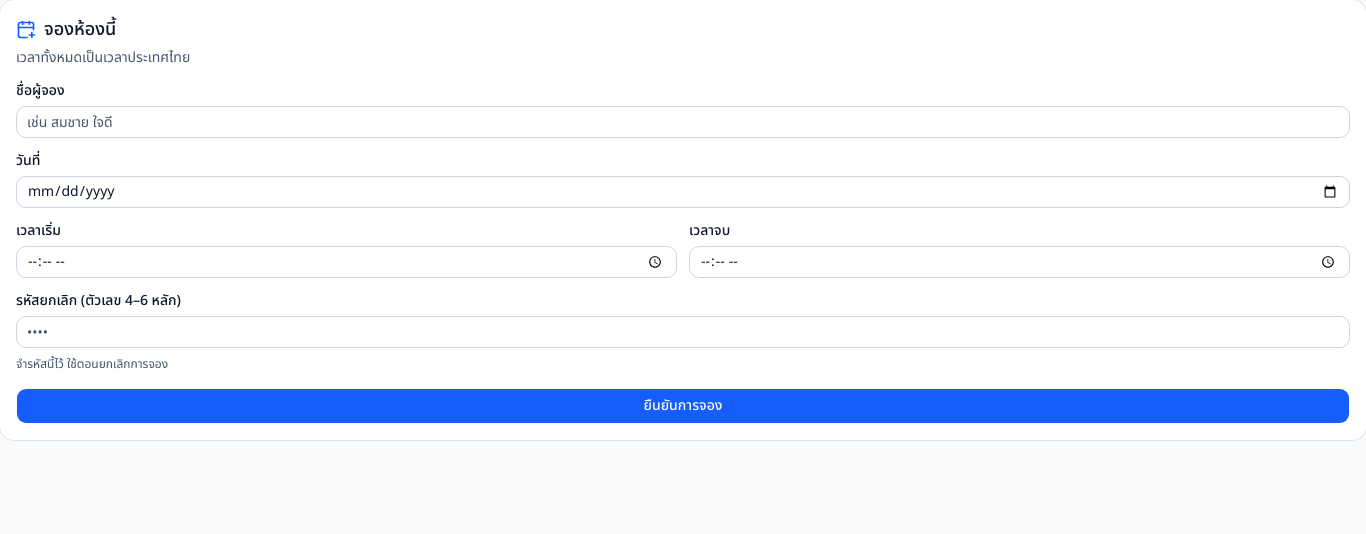
Test: BookingForm › explains when the server cannot be reached
Type "สมชาย" into the field labelled "ชื่อผู้จอง" at (683, 122), box [16, 106, 1350, 138]
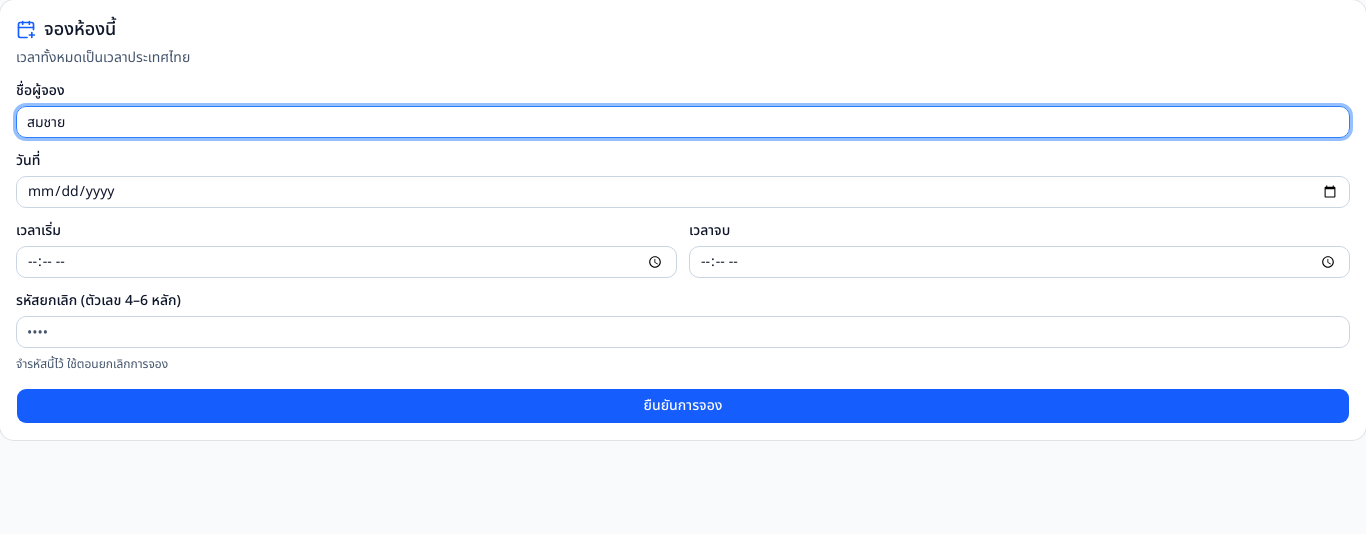
Type "2030-01-15" into the date field labelled "วันที่" at (683, 192), box [16, 176, 1350, 208]
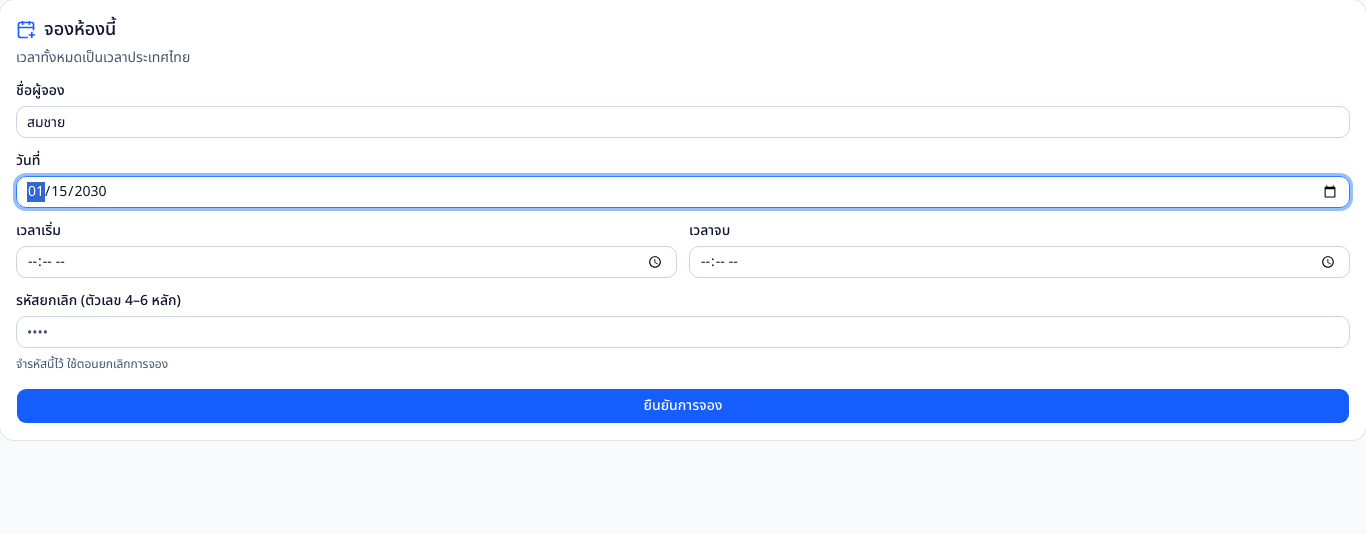
Type "10:00" into the time field labelled "เวลาเริ่ม" at (346, 262), box [16, 246, 677, 278]
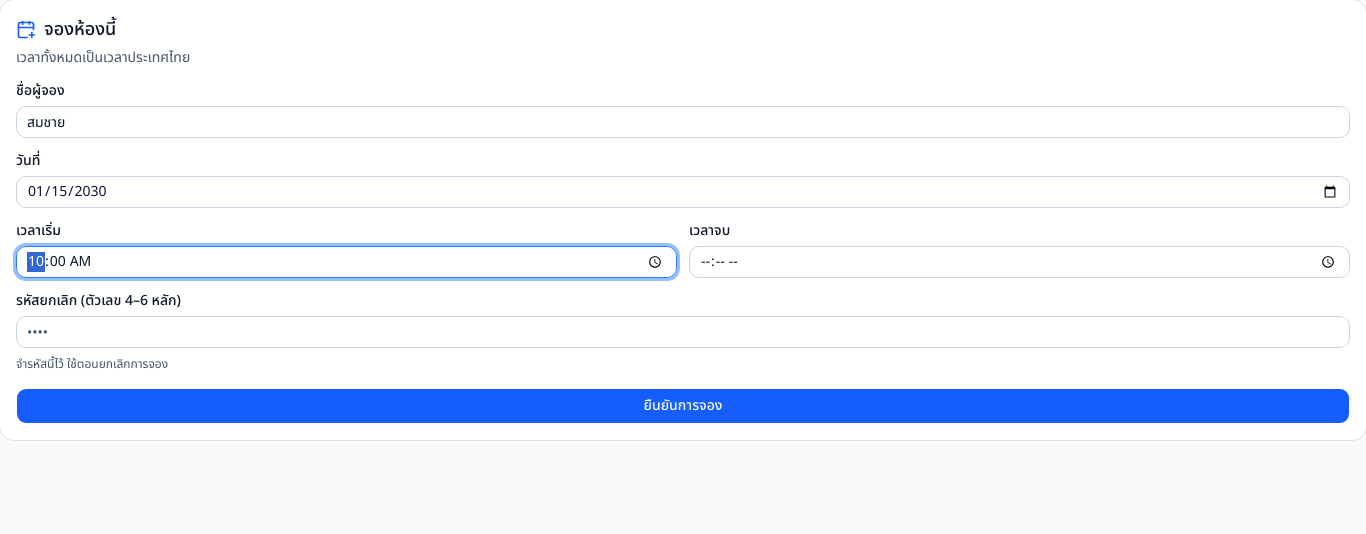
Type "11:30" into the time field labelled "เวลาจบ" at (1020, 262), box [689, 246, 1350, 278]
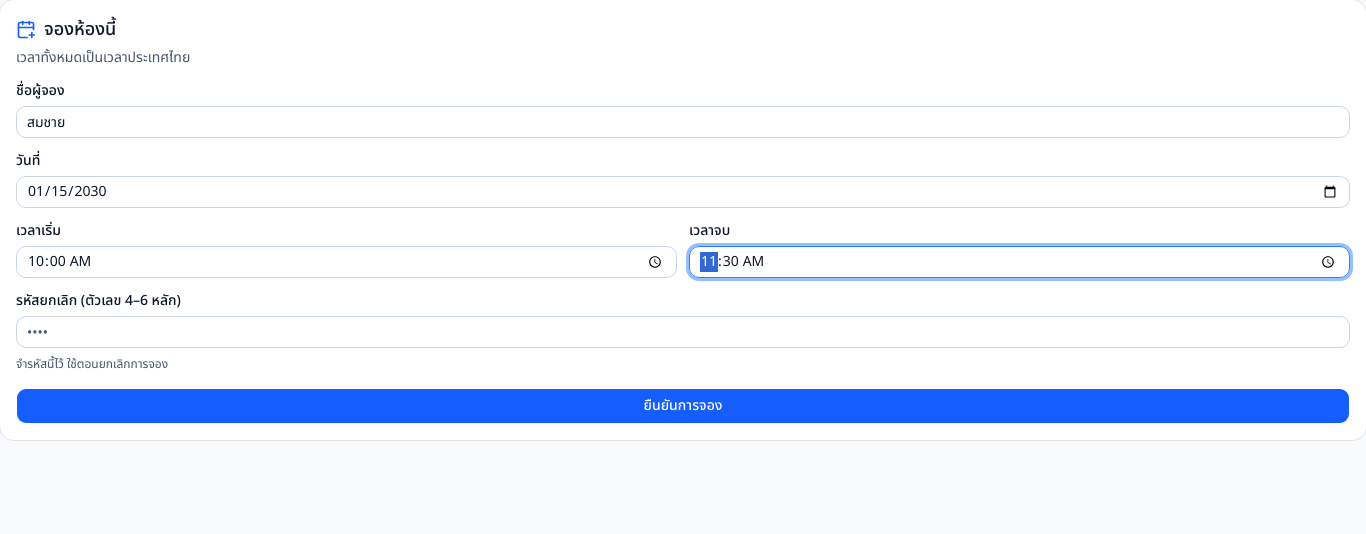
Type "1234" into the password field labelled "รหัสยกเลิก (ตัวเลข 4–6 หลัก)" at (683, 332), box [16, 316, 1350, 348]
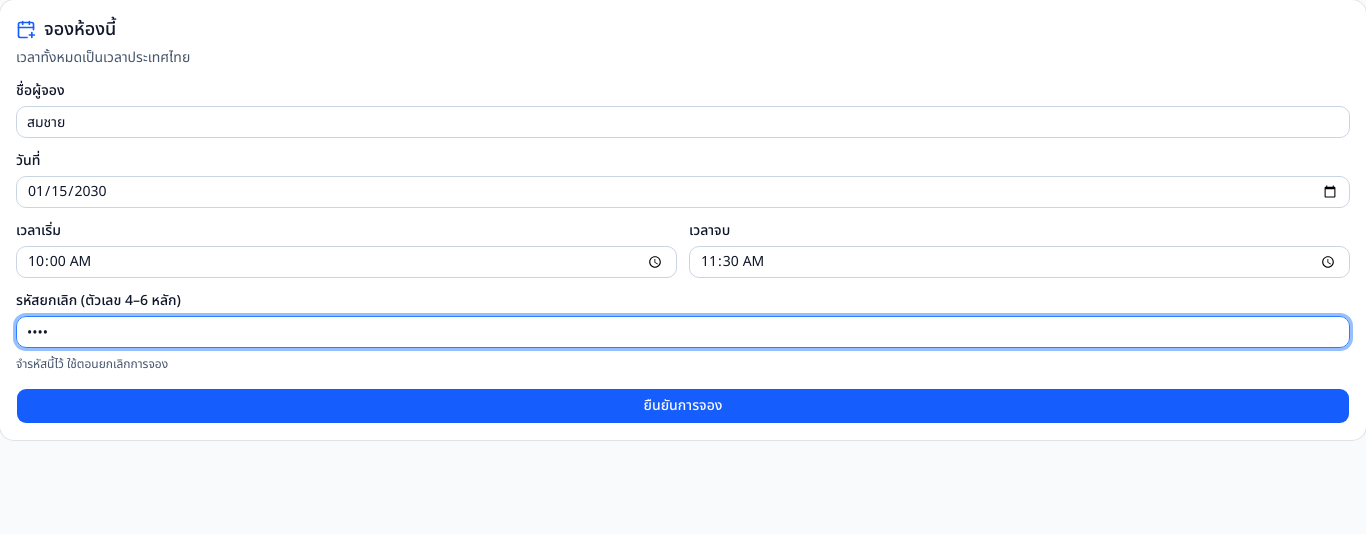
Click the button "ยืนยันการจอง" at (683, 406), box [16, 388, 1350, 424]
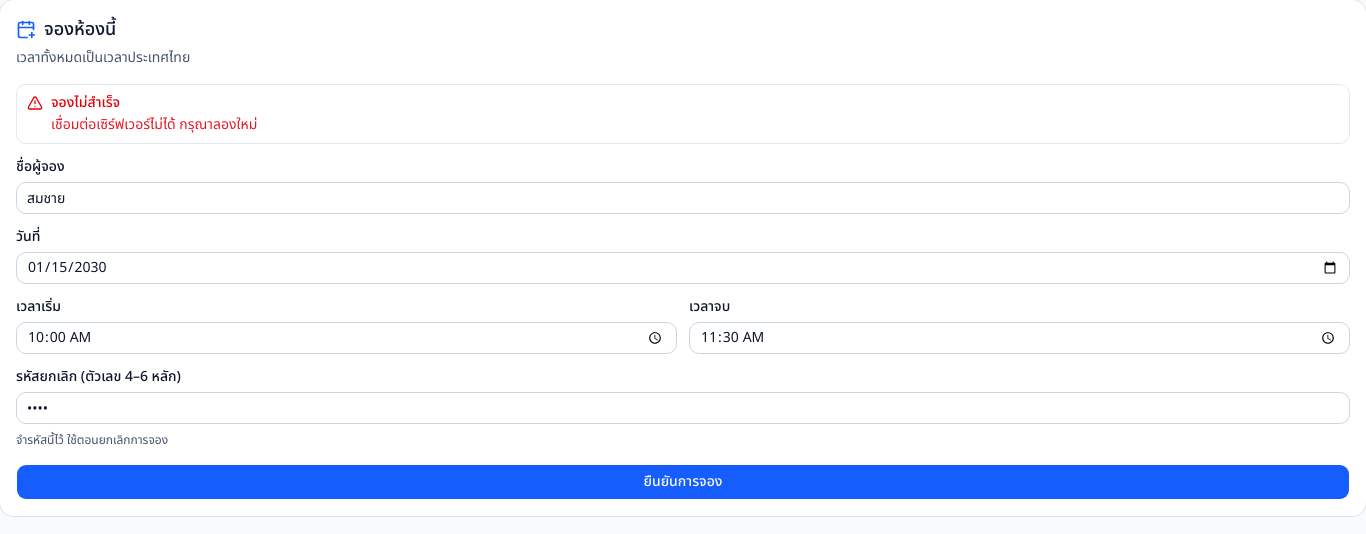
Result: the text "เชื่อมต่อเซิร์ฟเวอร์ไม่ได้ กรุณาลองใหม่" is shown at [51, 114, 257, 135]
